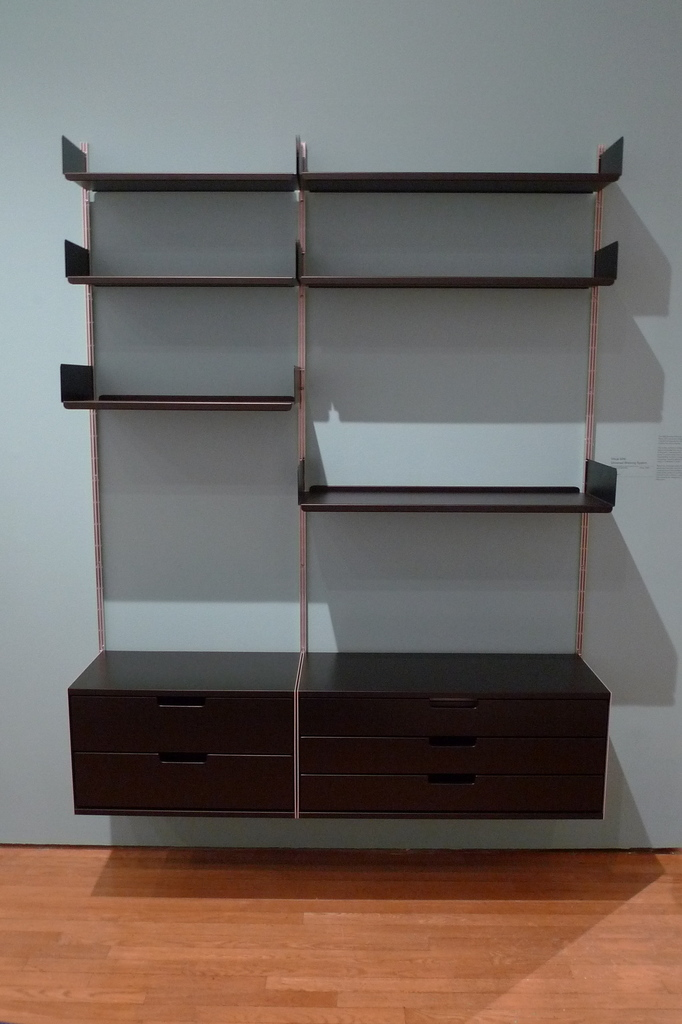cabinet door: (303, 764, 605, 823), (301, 684, 609, 735), (72, 698, 294, 761), (300, 735, 607, 779), (77, 757, 294, 819)
handle: (159, 741, 215, 782), (427, 717, 479, 751), (428, 765, 475, 794), (434, 690, 479, 708)
